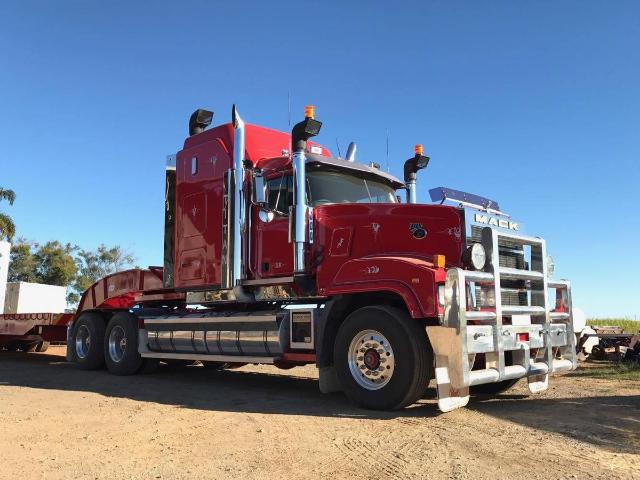truck: (64, 105, 581, 433)
